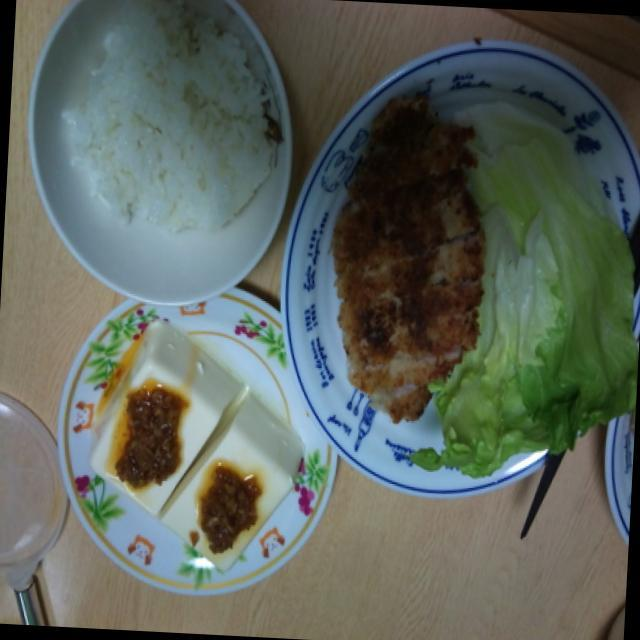Rice: (78, 16, 264, 239)
